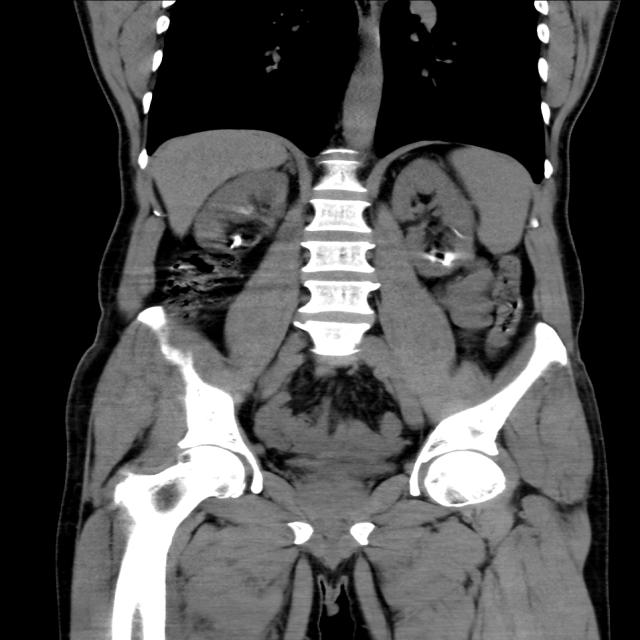kidneystone: (442, 252, 455, 266), (229, 235, 241, 248)
